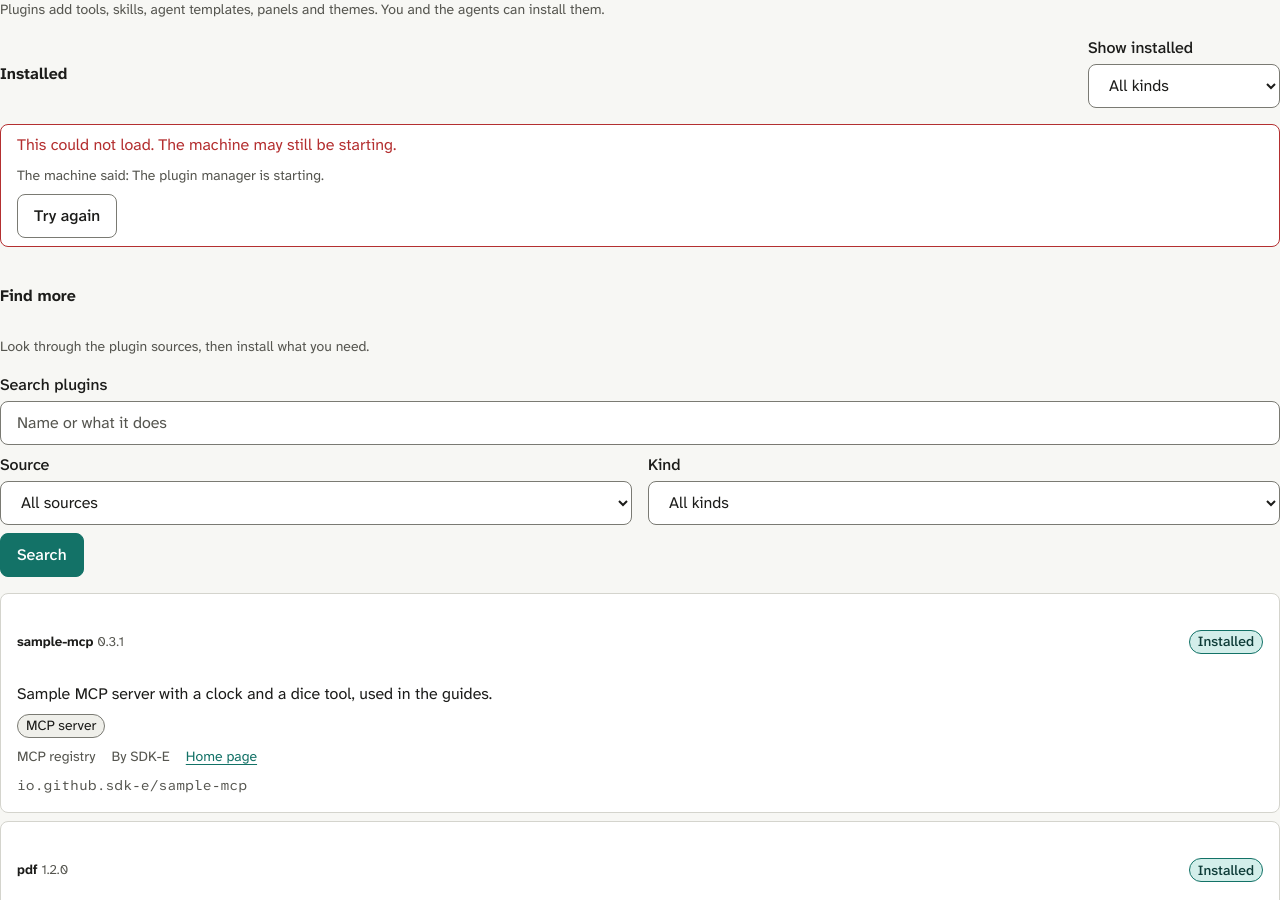
Scenario: Plugins panel, installed › explains a load failure and offers to retry
Expected: the message shows "The plugin manager is starting.", [17,166,324,184]
What coordinates should you click on to do the following:
click the button "Try again"
I would click on:
 (67, 216)
Its box is [17,194,117,238].
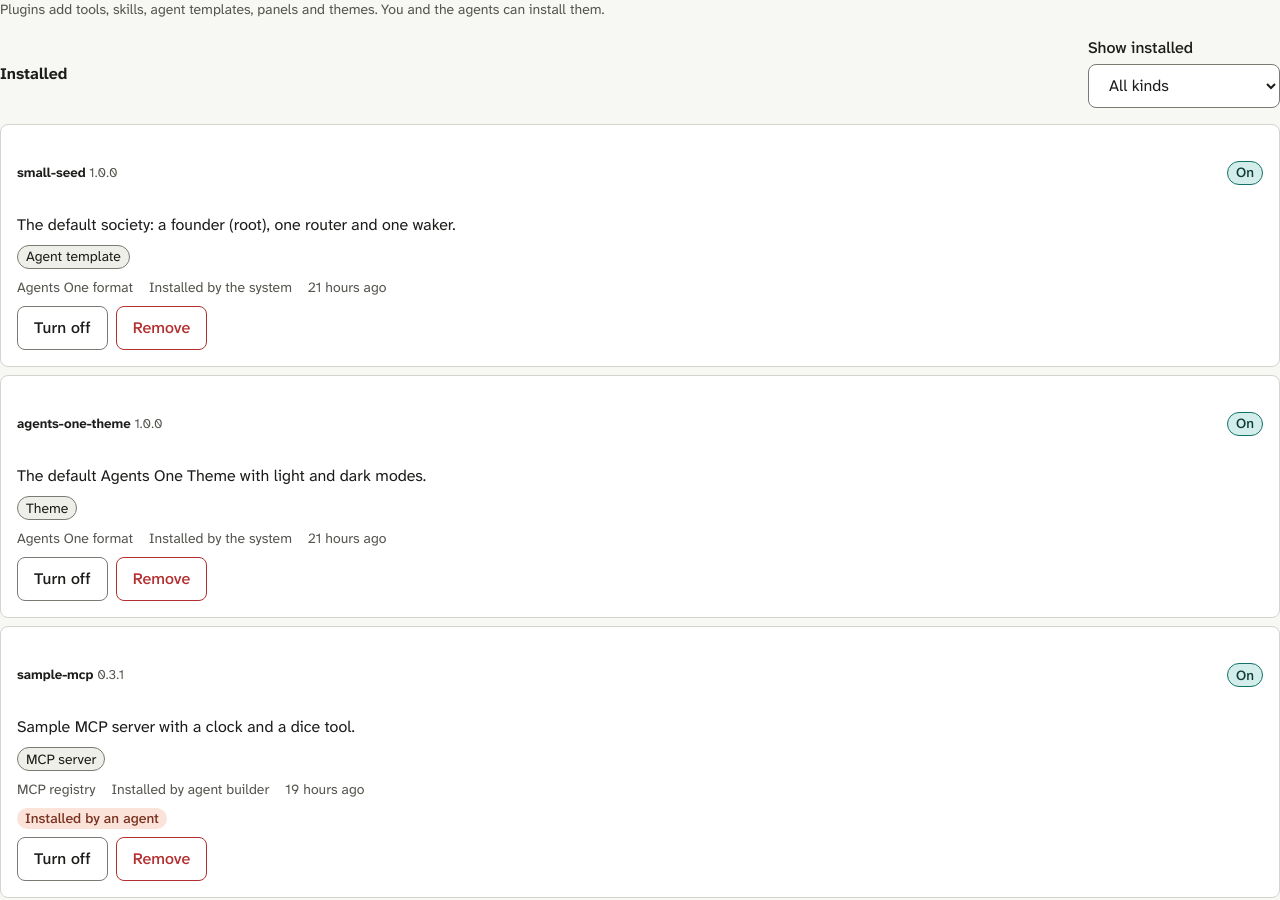
Expected: the list item that starts with "sample-mcp" is shown, [0,626,1279,898]
